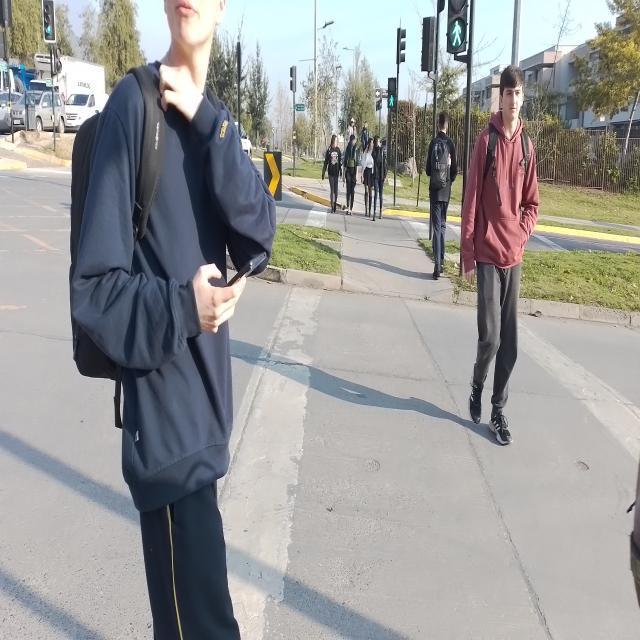person: (68, 0, 296, 640), (459, 59, 544, 464), (423, 102, 459, 286), (323, 123, 348, 215), (342, 128, 363, 215), (373, 132, 392, 223), (362, 132, 376, 220)
